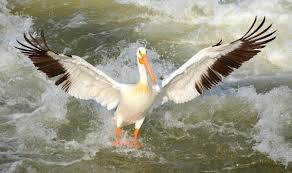pelican: (15, 16, 277, 146)
